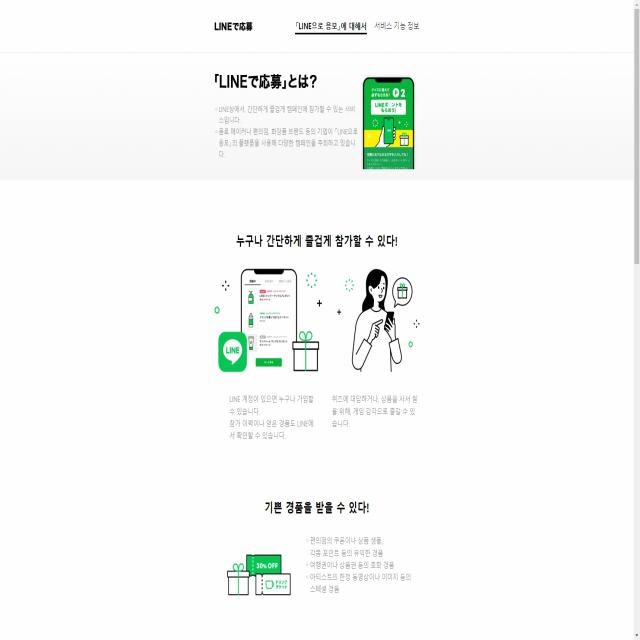menu-bar: (292, 11, 422, 36)
